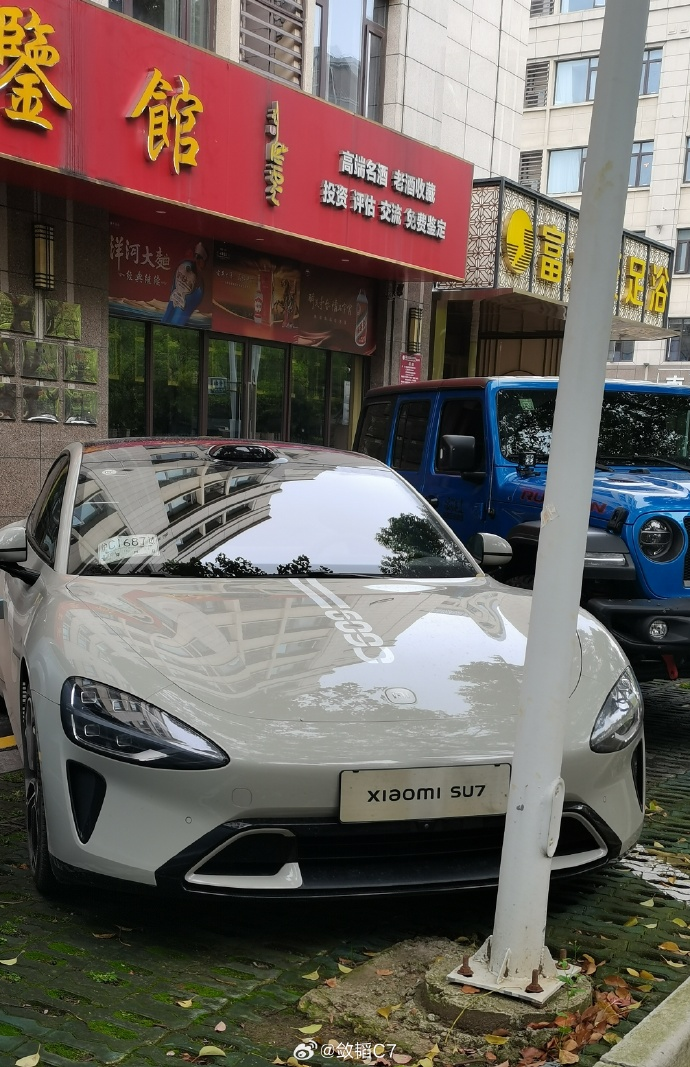other: (356, 369, 690, 641)
su7: (19, 420, 640, 908)
